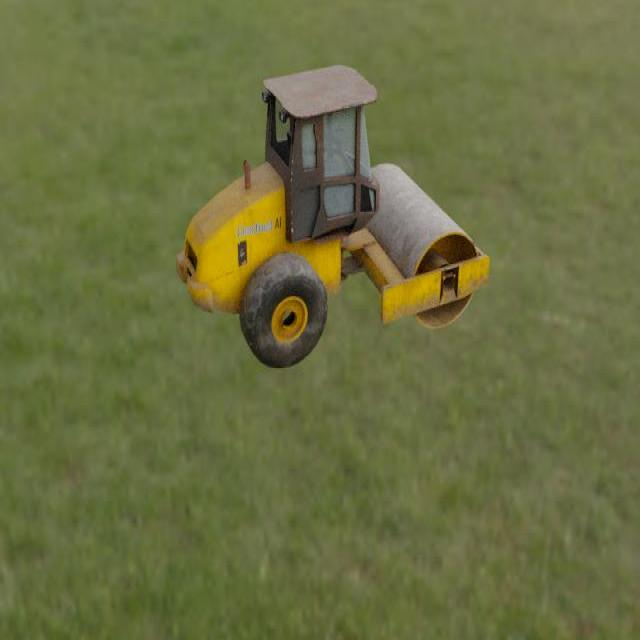Roller: (175, 64, 490, 369)
